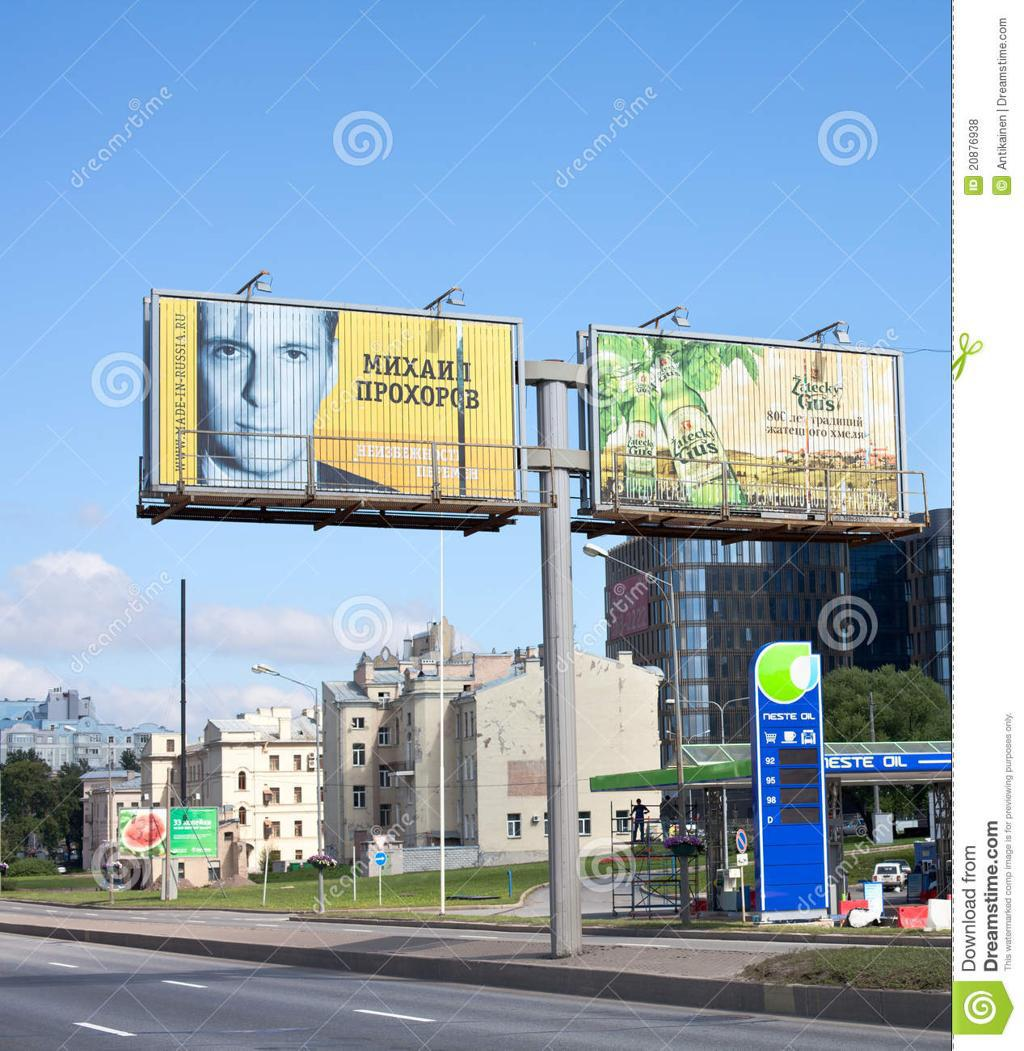face: (204, 301, 331, 471)
